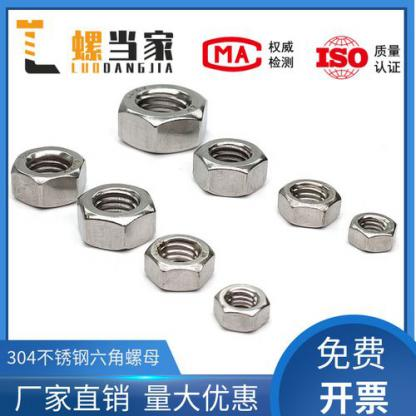FOD: (113, 81, 211, 156), (73, 181, 158, 252), (8, 144, 89, 210), (191, 137, 270, 198), (139, 233, 217, 293), (270, 177, 343, 229), (212, 282, 271, 334), (346, 210, 398, 253)
